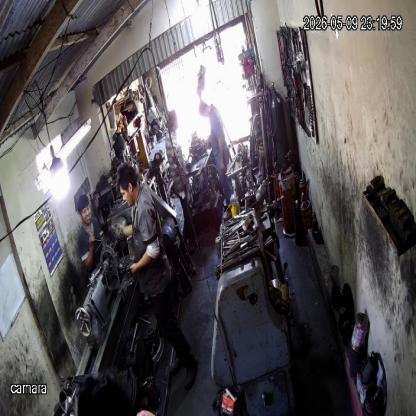sin_lentes: (81, 206, 90, 216)
